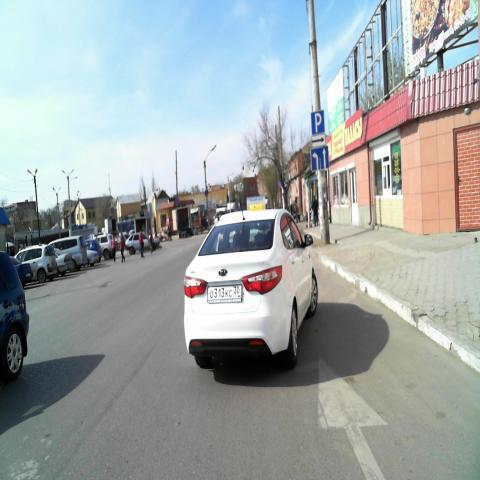6_4: (312, 110, 324, 134)
8_3_1: (312, 135, 325, 146)
